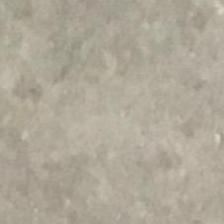Non_Crack: (41, 32, 217, 197)
